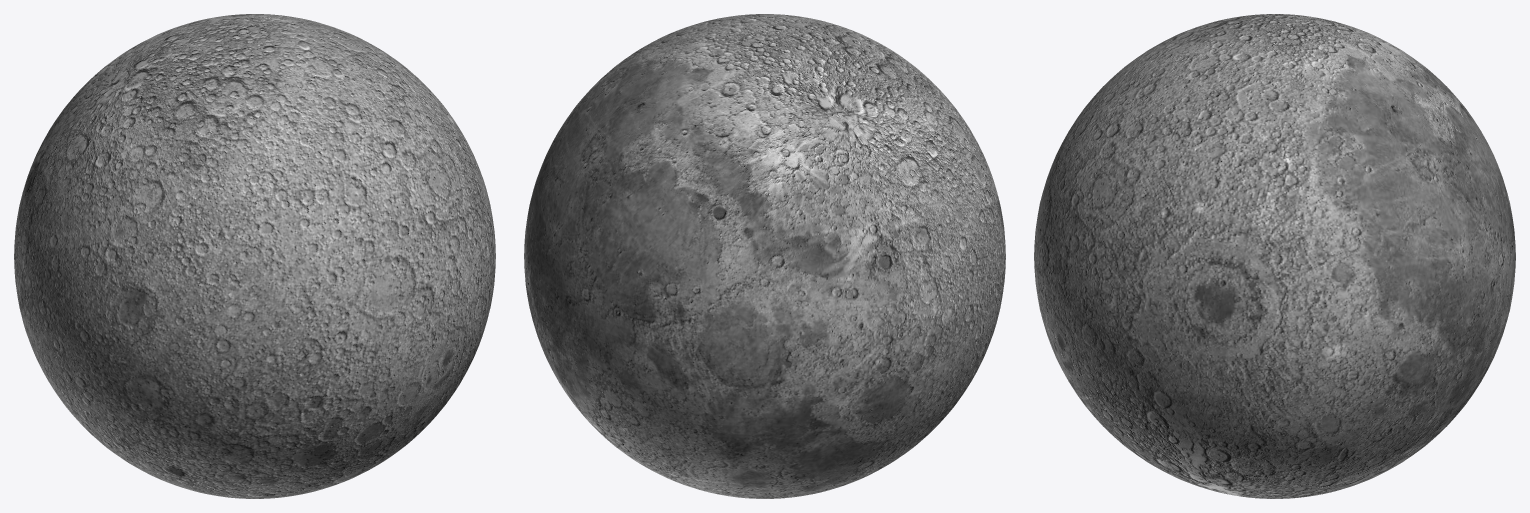
The model's file is Moon.obj.
The picture shows the model from 3 angles, left to right: view 1: azimuth 30°, elevation 25°; view 2: azimuth 150°, elevation 25°; view 3: azimuth 270°, elevation 25°; orthographic projection.
Visible parts, largest first — view 1: Sphere; view 2: Sphere; view 3: Sphere.
Boxes of the visible parts, left/top/right/bottom form: Sphere: left=14, top=14, right=495, bottom=498; Sphere: left=524, top=14, right=1005, bottom=498; Sphere: left=1034, top=14, right=1515, bottom=498.
Bounding box in the file's own units: 1.97 × 1.97 × 1.97.
Materials: 1 (1 with a texture image).
